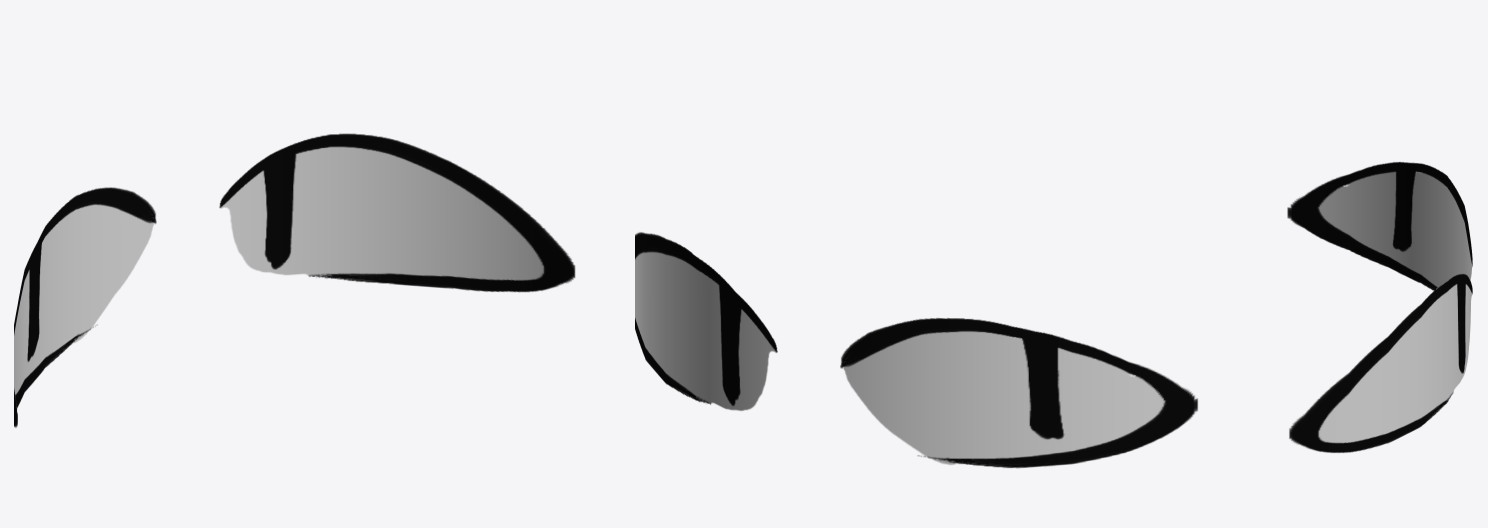
Rendered from 20-Silly-Cat-Face-eyes.glb.
The picture shows the model from 3 angles, left to right: view 1: azimuth 30°, elevation 25°; view 2: azimuth 150°, elevation 25°; view 3: azimuth 270°, elevation 25°; orthographic projection. The views are drawn at different scales.
Visible parts, largest first — view 1: 20-Silly-Cat-Face-eyes; view 2: 20-Silly-Cat-Face-eyes; view 3: 20-Silly-Cat-Face-eyes.
Part boxes in pixels (x1=…): 20-Silly-Cat-Face-eyes: x1=14, y1=133, x2=575, y2=427; 20-Silly-Cat-Face-eyes: x1=635, y1=232, x2=1197, y2=468; 20-Silly-Cat-Face-eyes: x1=1287, y1=162, x2=1472, y2=453.
Size of the model in its own units: 1.11 by 0.5764 by 0.4251.
Materials: 1 (1 with a texture image).
